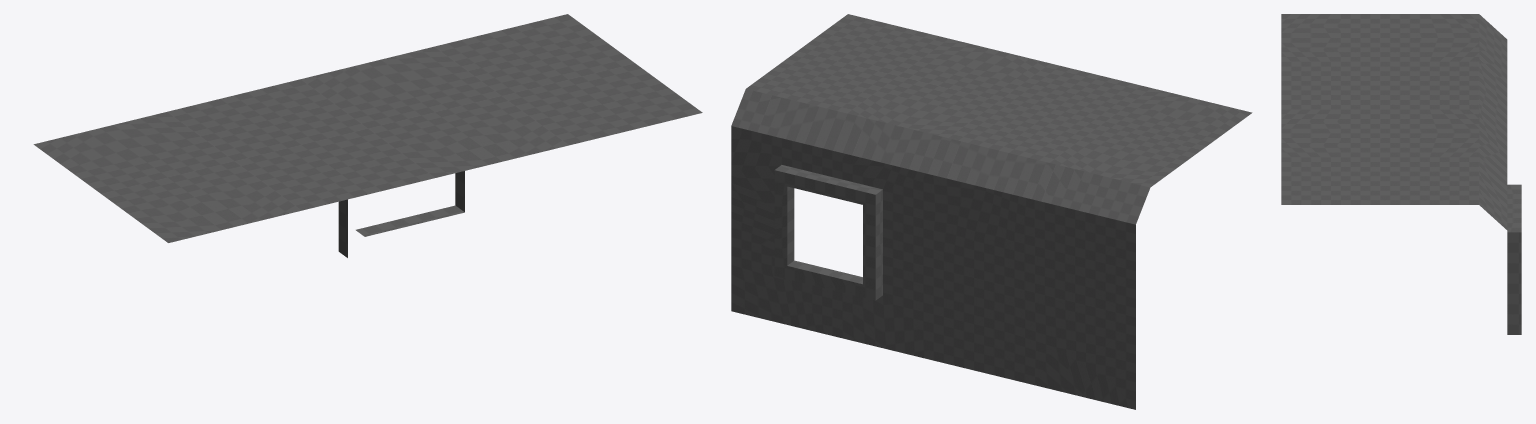
3 renders of one model, left to right at view 1: azimuth 30°, elevation 25°; view 2: azimuth 150°, elevation 25°; view 3: azimuth 270°, elevation 25°, orthographic. The views are drawn at different scales.
Visible parts, largest first — view 1: 1; view 2: 1; view 3: 1.
Boxes of the visible parts, x1,y1,x2,y2 form: 1: (33,14,702,257); 1: (731,14,1252,409); 1: (1281,14,1521,334).
Size of the model in its own units: 4 by 2 by 2.12.
Materials: 2 (2 with a texture image).
